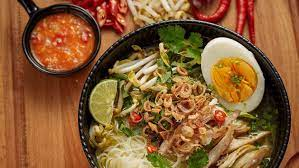soto: (14, 3, 297, 168)
